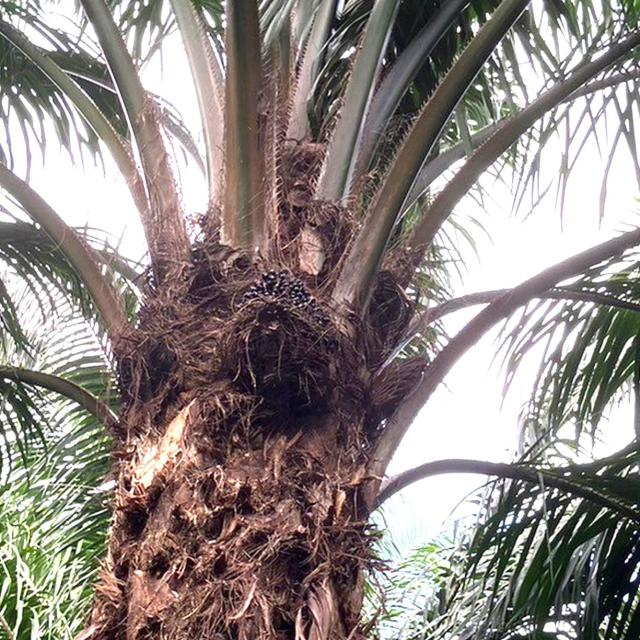unripe: (238, 266, 327, 398)
